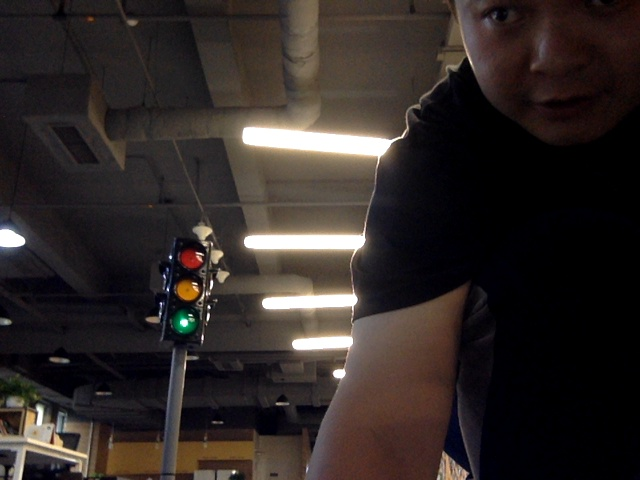green: (169, 239, 201, 340)
